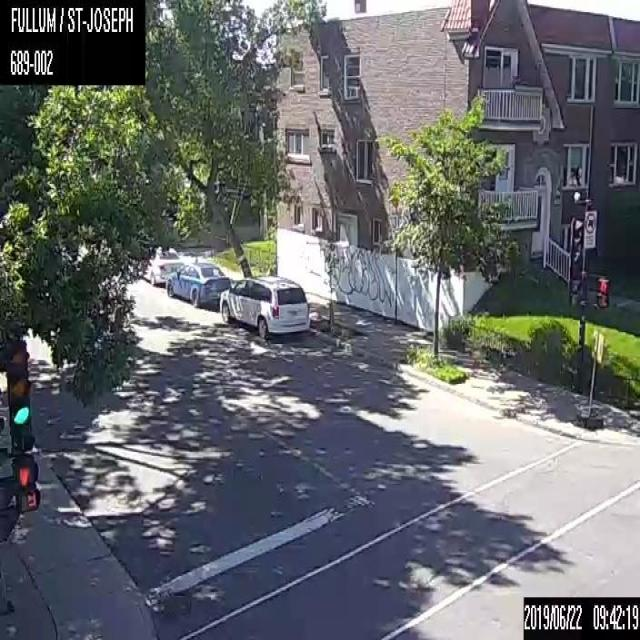construction: (576, 327, 604, 427)
vehicle: (218, 275, 312, 341), (166, 262, 232, 307), (126, 244, 182, 286)
